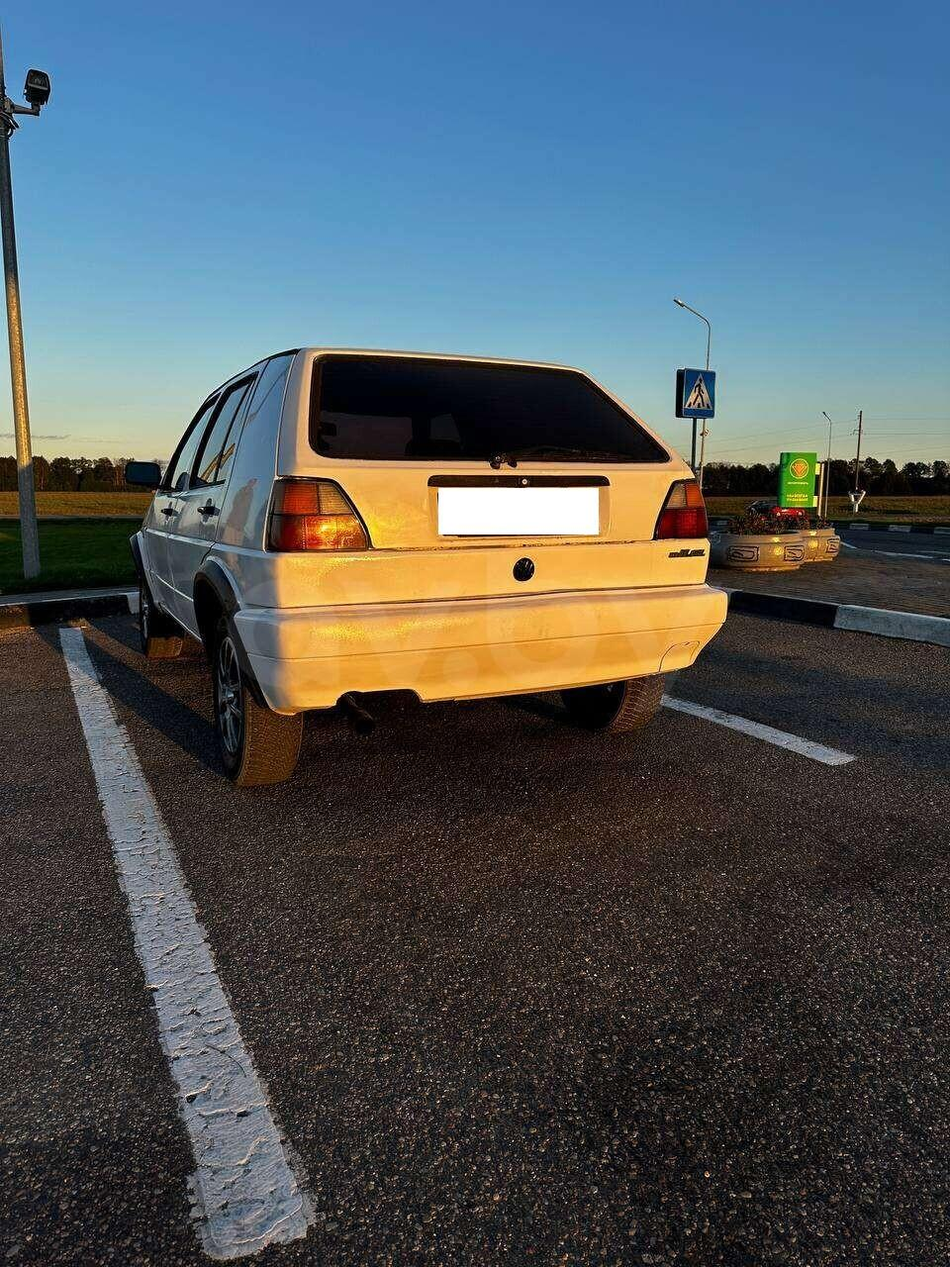Golf_1983-1992: (122, 341, 727, 784)
